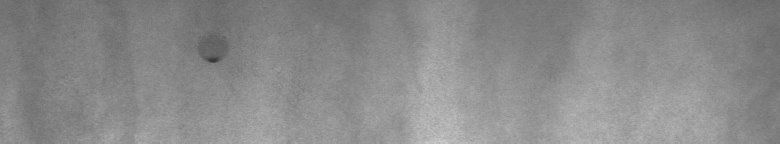fi: (196, 46, 224, 72)
